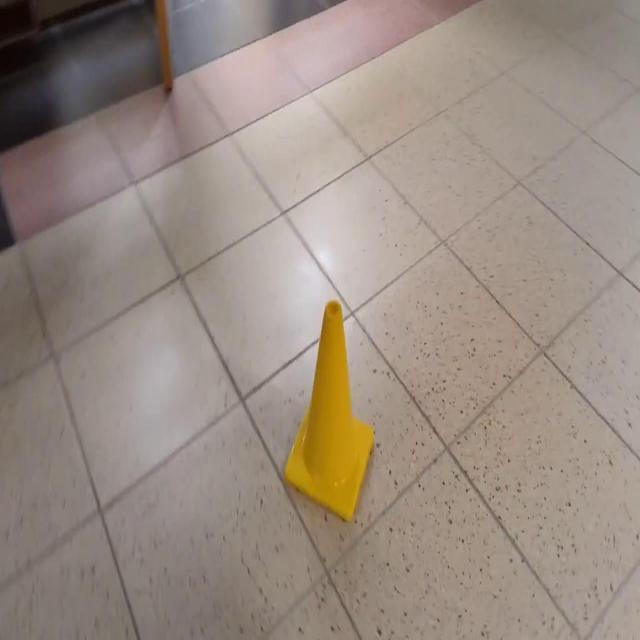frc_cone: (282, 298, 374, 522)
